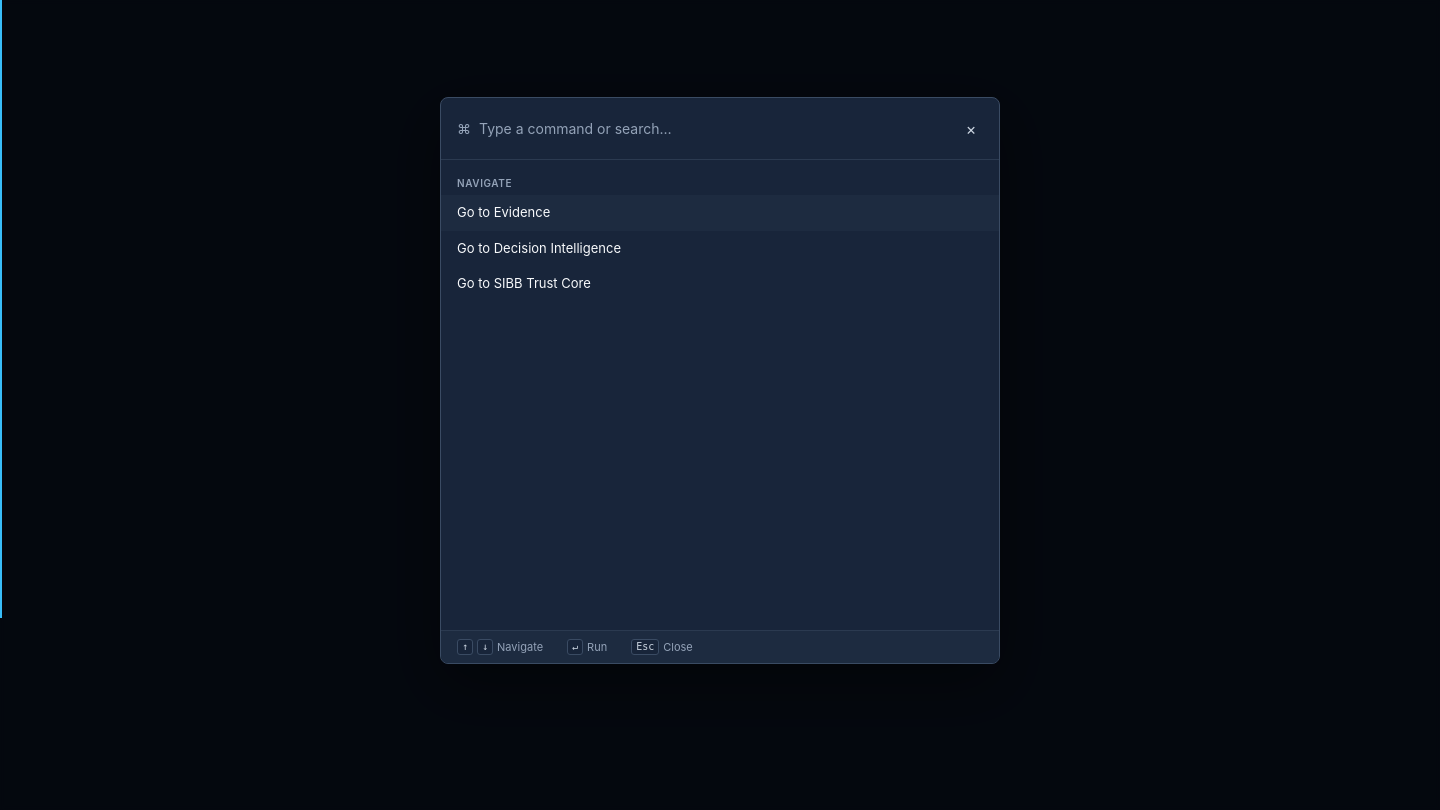
it: CommandPalette — fuzzy search › hides non-matching commands
Type "integrity" into the field with placeholder "Type a command or search…" at (715, 129), box [479,114,951,143]
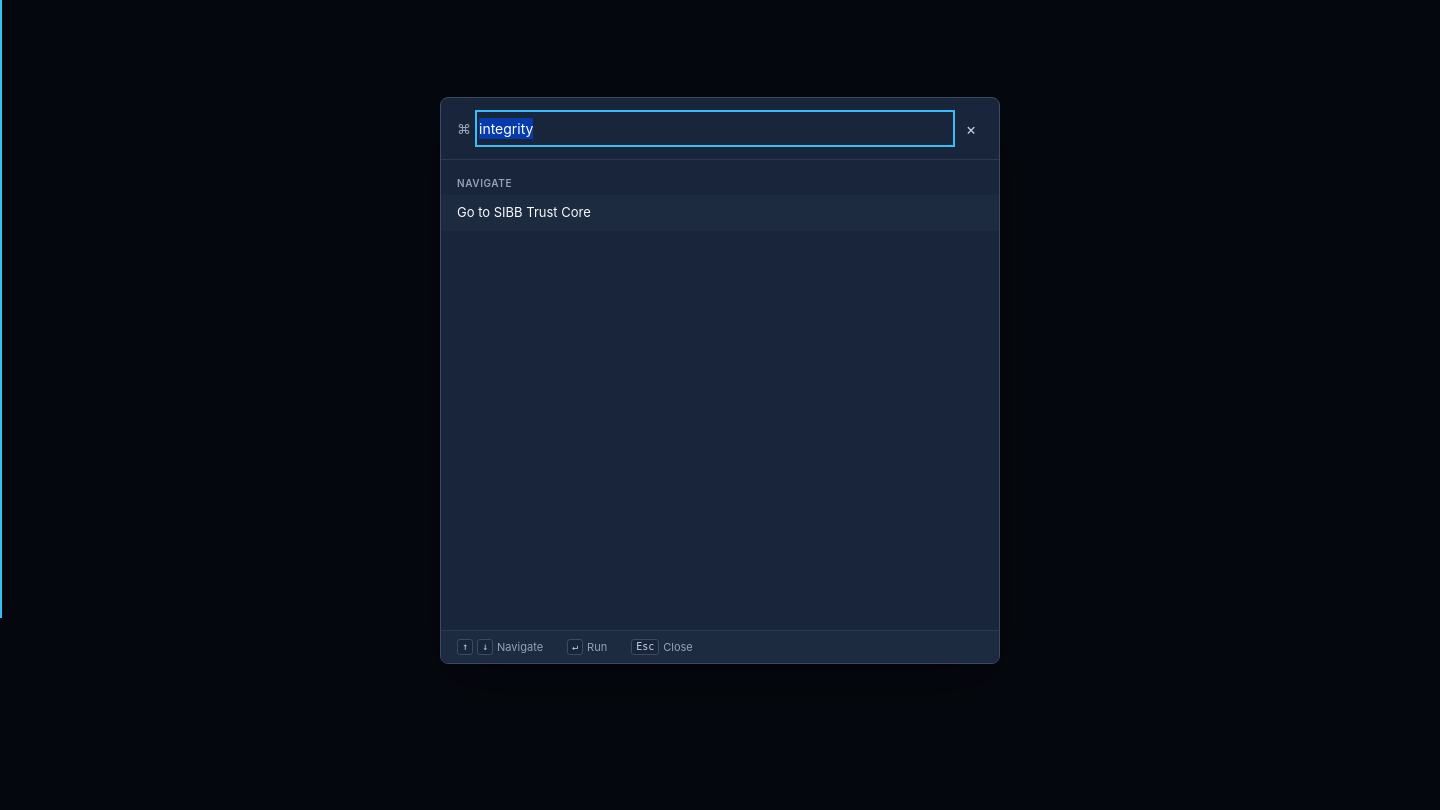
Expected: the option "Go to Evidence" is gone
